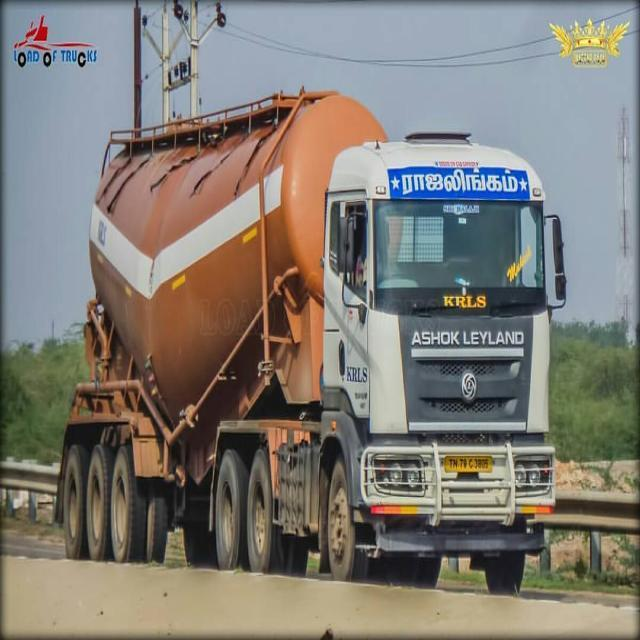Truck: (53, 85, 567, 597)
